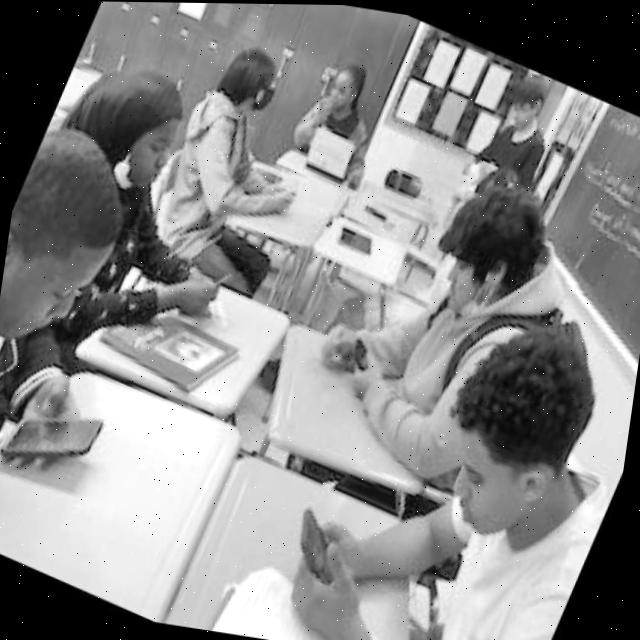phone: (0, 380, 111, 490), (280, 501, 360, 589), (189, 256, 238, 316), (347, 334, 381, 372)
